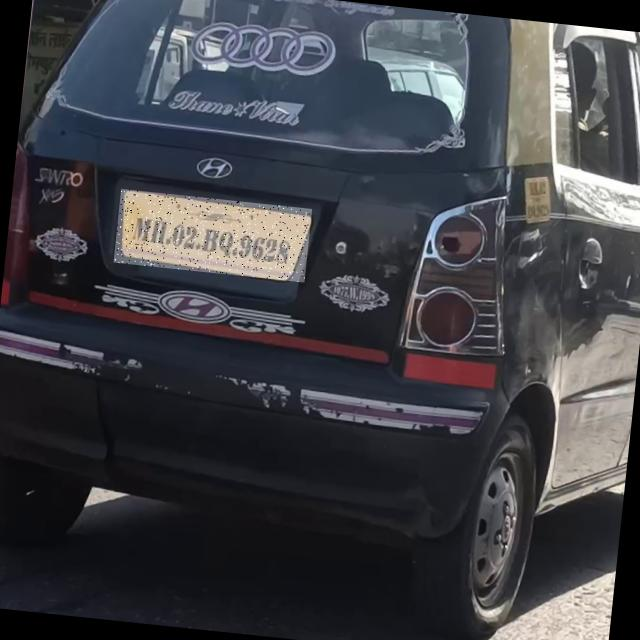Plate: (114, 190, 313, 284)
